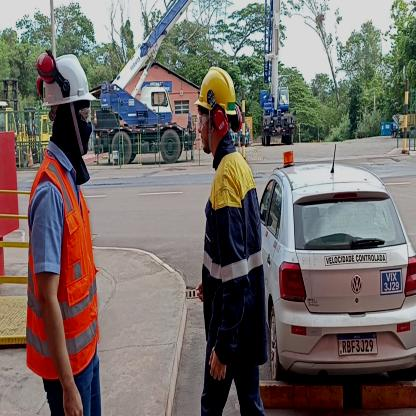Balaclava: (52, 102, 92, 158)
C_eletrica: (202, 154, 269, 364)
Capacete: (37, 48, 96, 102), (195, 64, 239, 114)
colete: (25, 162, 101, 364), (195, 116, 209, 129)
